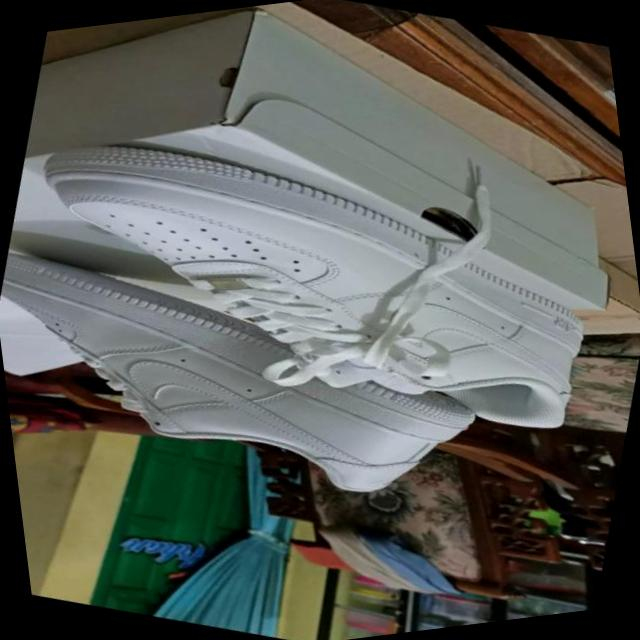nike_original_airforce: (0, 58, 637, 505), (0, 195, 511, 565)
